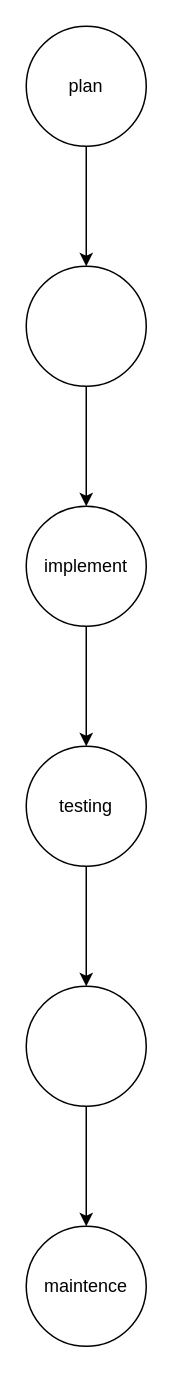
The diagram is 173 pixels wide and 1373 high, and some of its shapes have lost their labels. Here are the shapes that lost their labels. From the top down, the centre of each, then its label:
At [85,325]: "design".
At [85,1045]: "deployment".
